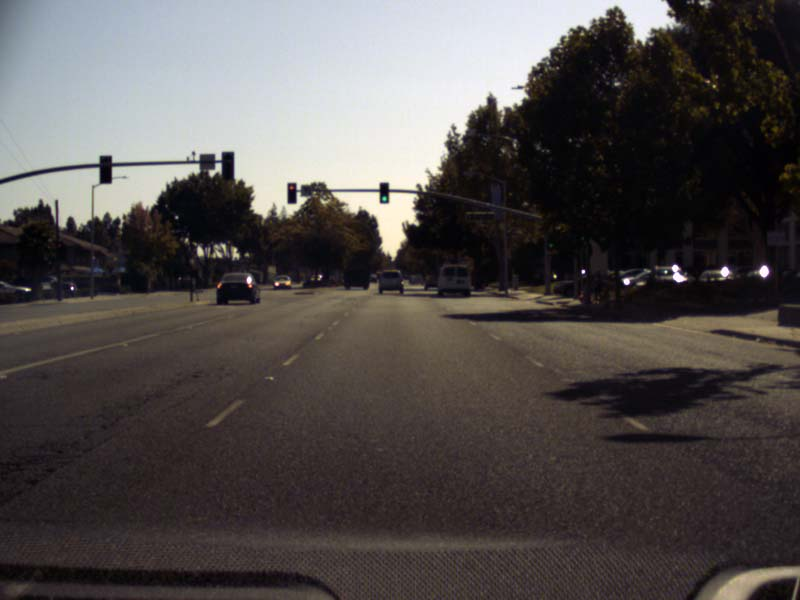Green: (379, 182, 388, 203), (547, 235, 554, 250), (579, 234, 585, 241)
Red: (287, 183, 296, 203)
